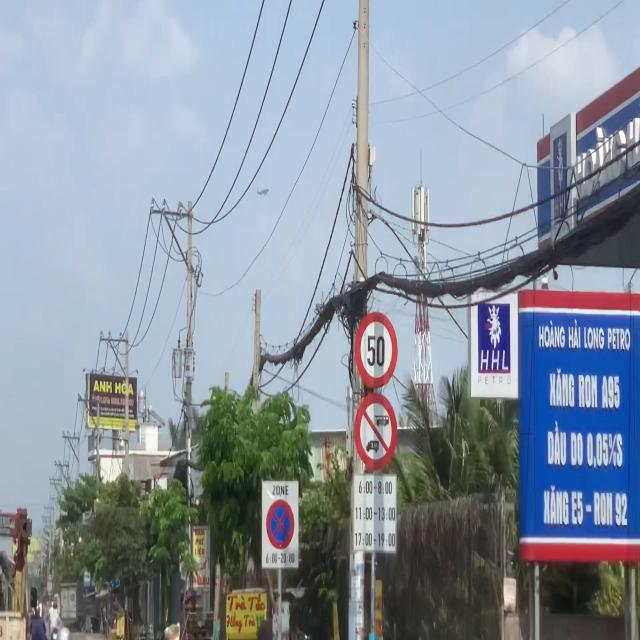Cam con lai: (352, 388, 400, 474)
Cam dung va do: (266, 497, 296, 551)
Toc do toi da: (355, 312, 401, 387)
